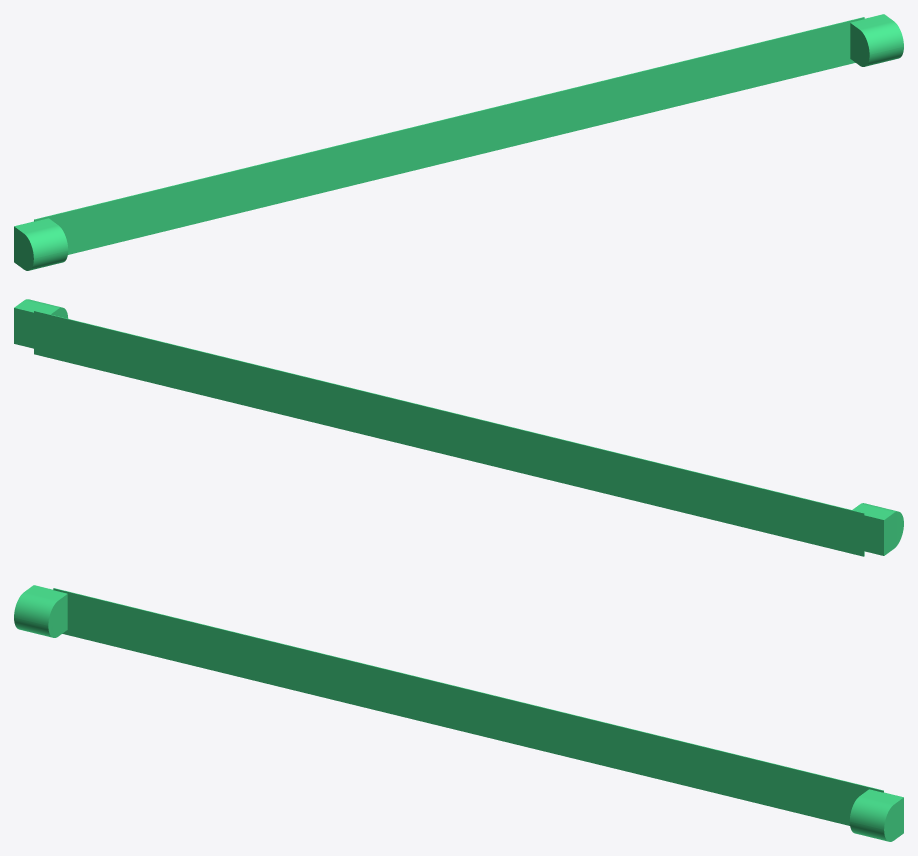
3 views of the same model, one above another, from view 1: azimuth 30°, elevation 25°; view 2: azimuth 150°, elevation 25°; view 3: azimuth 330°, elevation 25° (orthographic).
Parts seen in each view (by area): view 1: tmp_export_Cube.004; view 2: tmp_export_Cube.004; view 3: tmp_export_Cube.004.
Boxes of the visible parts, x1=… form: tmp_export_Cube.004: x1=14, y1=14, x2=903, y2=270; tmp_export_Cube.004: x1=14, y1=299, x2=903, y2=556; tmp_export_Cube.004: x1=14, y1=585, x2=903, y2=841.
Size of the model in its own units: 72.12 by 2.86 by 3.43.
